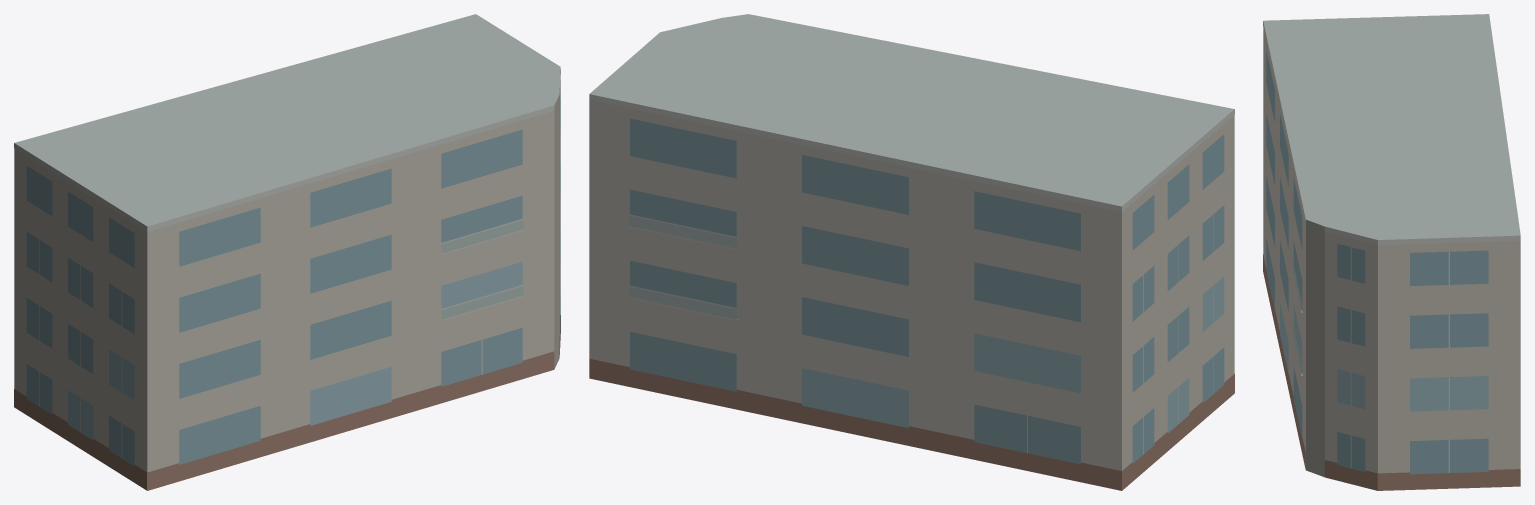
The model's file is survey-upis-32805324.glb.
3 views of the same model, side by side, from view 1: azimuth 30°, elevation 25°; view 2: azimuth 150°, elevation 25°; view 3: azimuth 270°, elevation 25° (orthographic). The views are drawn at different scales.
Parts seen in each view (by area): view 1: survey-upis-32805324.tmp; view 2: survey-upis-32805324.tmp; view 3: survey-upis-32805324.tmp.
Part boxes in pixels (bbox=[...]): survey-upis-32805324.tmp: bbox=[14, 14, 560, 490]; survey-upis-32805324.tmp: bbox=[589, 14, 1234, 490]; survey-upis-32805324.tmp: bbox=[1263, 14, 1520, 490].
Size of the model in its own units: 23.2 by 12 by 11.18.
